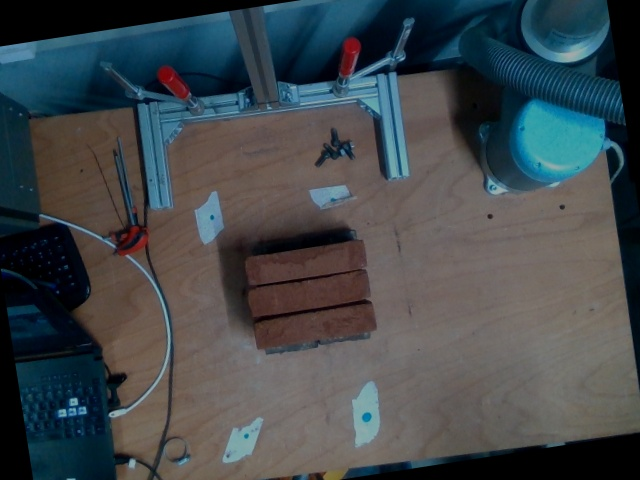brick-side: (248, 270, 369, 317), (245, 241, 366, 287), (255, 303, 376, 349)
